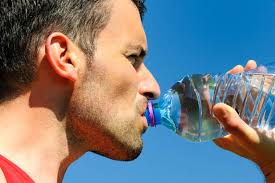Botella: (145, 65, 272, 141)
